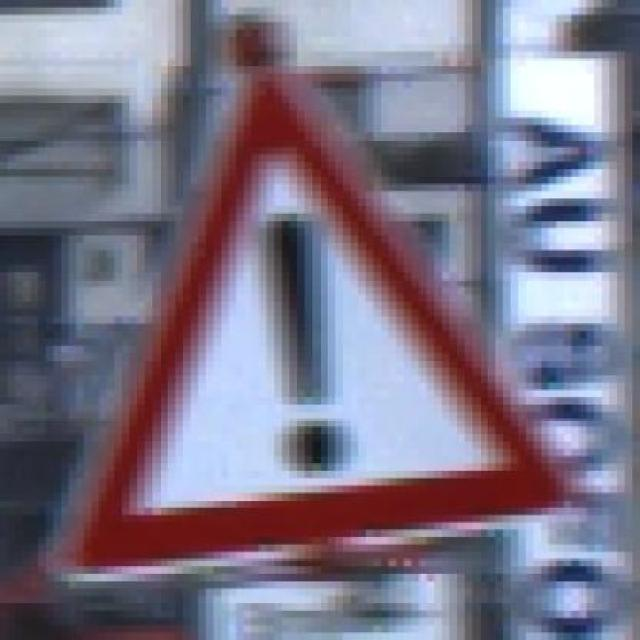Attention Please-: (46, 66, 572, 582)
